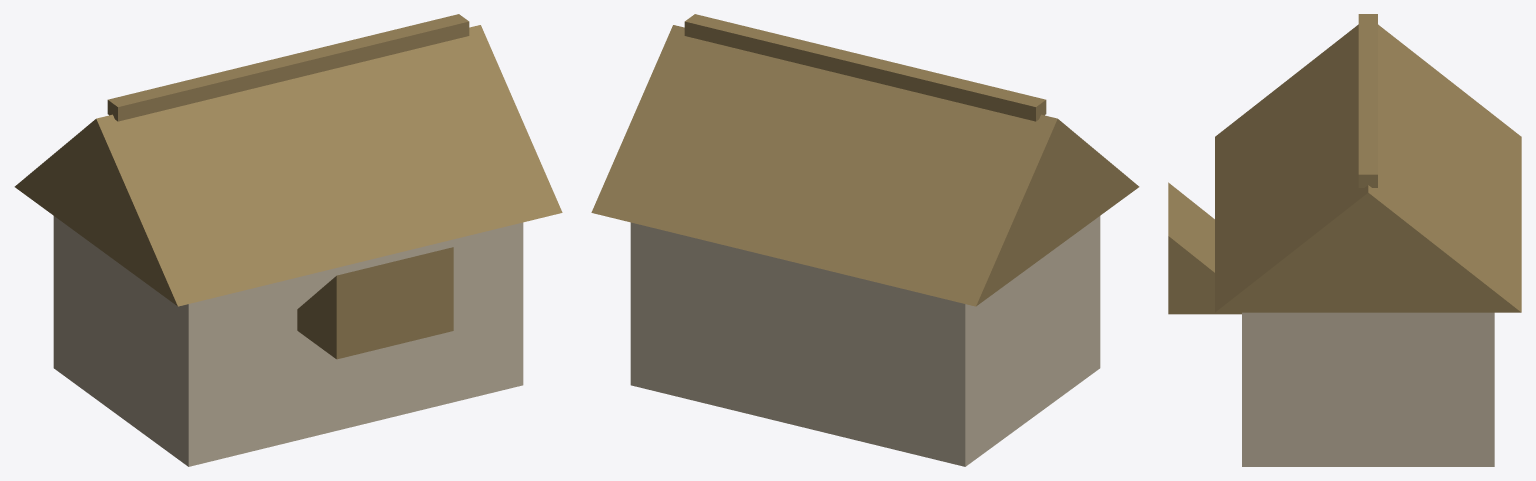
The model's file is cottage_a.glb.
3 renders of one model, left to right at view 1: azimuth 30°, elevation 25°; view 2: azimuth 150°, elevation 25°; view 3: azimuth 270°, elevation 25°, orthographic. The views are drawn at different scales.
Parts seen in each view (by area): view 1: cottage_a; view 2: cottage_a; view 3: cottage_a.
Boxes of the visible parts, box(x1,y1,x2,y2) form: cottage_a: box(14, 14, 562, 466); cottage_a: box(591, 14, 1139, 466); cottage_a: box(1168, 14, 1521, 466).
Bounding box in the file's own units: 7 × 5.5 × 5.94.
